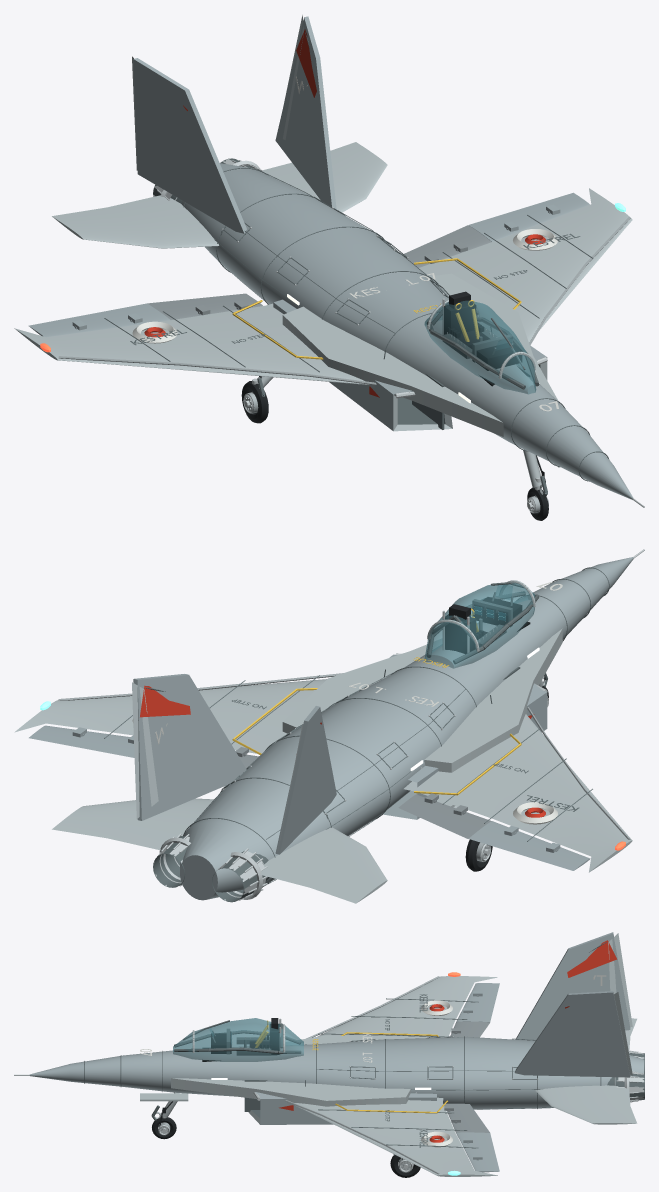
Rendered from fighter.glb.
3 renders of one model, top to bottom at view 1: azimuth 30°, elevation 25°; view 2: azimuth 150°, elevation 25°; view 3: azimuth 270°, elevation 25°, orthographic. The views are drawn at different scales.
Parts seen in each view (by area): view 1: Static_AircraftGrey, Static_AircraftLight, Static_SteelDark, Static_Canopy, ElevatorL_AircraftLight, ElevatorR_AircraftLight, AileronR_AircraftGrey, AileronL_AircraftGrey, FlapL_HullPanelGrey, FlapR_HullPanelGrey, Static_Black, Static_SteelGrey (+4 smaller); view 2: Static_AircraftGrey, Static_AircraftLight, Static_SteelDark, ElevatorL_AircraftLight, Static_Canopy, ElevatorR_AircraftLight, AileronL_AircraftGrey, Static_BrightMetal, FlapL_HullPanelGrey, AileronR_AircraftGrey, Static_Black, RudderR_AircraftLight (+4 smaller); view 3: Static_AircraftGrey, Static_AircraftLight, Static_SteelDark, Static_Canopy, ElevatorR_AircraftLight, AileronR_AircraftGrey, AileronL_AircraftGrey, Static_SafetyRed, FlapR_HullPanelGrey, Static_WhiteMarking, Static_SteelGrey, Static_Black (+7 smaller).
Boxes of the visible parts, x1,y1,x2,y2 form: Static_AircraftGrey: (133, 16, 633, 499); Static_AircraftLight: (14, 188, 632, 436); Static_SteelDark: (104, 31, 609, 481); Static_Canopy: (424, 300, 536, 394); ElevatorL_AircraftLight: (52, 195, 219, 248); ElevatorR_AircraftLight: (263, 142, 387, 212); AileronR_AircraftGrey: (469, 192, 589, 241); AileronL_AircraftGrey: (28, 303, 170, 337); FlapL_HullPanelGrey: (147, 293, 262, 319); FlapR_HullPanelGrey: (404, 225, 491, 267); Static_Black: (444, 301, 529, 386); Static_SteelGrey: (58, 217, 630, 385); Static_AircraftGrey: (133, 557, 633, 900); Static_AircraftLight: (14, 580, 632, 872); Static_SteelDark: (104, 567, 609, 902); ElevatorL_AircraftLight: (259, 827, 387, 903); Static_Canopy: (424, 582, 534, 668); ElevatorR_AircraftLight: (52, 798, 213, 850); AileronL_AircraftGrey: (468, 821, 590, 870); Static_BrightMetal: (154, 549, 644, 900); FlapL_HullPanelGrey: (398, 793, 491, 838); AileronR_AircraftGrey: (29, 725, 134, 757); Static_Black: (445, 597, 530, 653); RudderR_AircraftLight: (132, 682, 158, 818); Static_AircraftGrey: (29, 932, 644, 1124); Static_AircraftLight: (171, 976, 497, 1176); Static_SteelDark: (84, 942, 644, 1148); Static_Canopy: (173, 1018, 303, 1061); ElevatorR_AircraftLight: (535, 1085, 637, 1124); AileronR_AircraftGrey: (456, 1132, 499, 1172); AileronL_AircraftGrey: (456, 983, 499, 1022); Static_SafetyRed: (279, 940, 616, 1142); FlapR_HullPanelGrey: (444, 1103, 489, 1132); Static_WhiteMarking: (140, 975, 606, 1147); Static_SteelGrey: (285, 976, 439, 1174); Static_Black: (202, 1023, 279, 1061).
Bounding box in the file's own units: 13.75 × 5.65 × 18.27.
